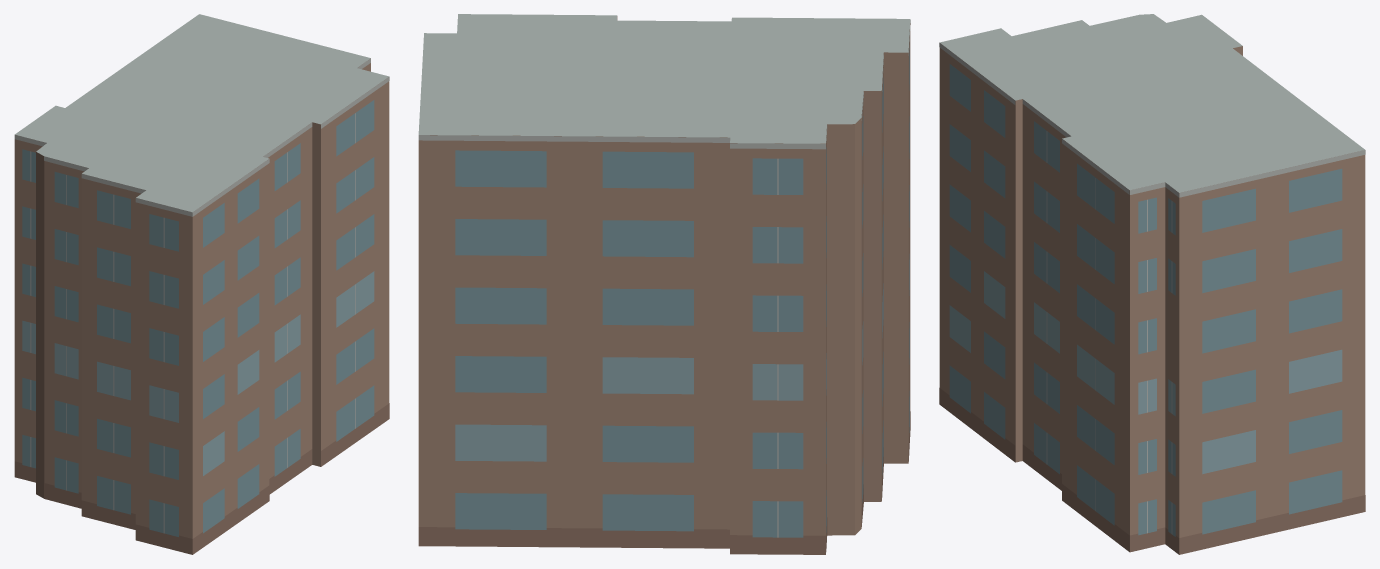
The model's file is survey-upis-32689736.glb.
The picture shows the model from 3 angles, left to right: view 1: azimuth 30°, elevation 25°; view 2: azimuth 150°, elevation 25°; view 3: azimuth 270°, elevation 25°; orthographic projection. The views are drawn at different scales.
Parts seen in each view (by area): view 1: survey-upis-32689736.tmp; view 2: survey-upis-32689736.tmp; view 3: survey-upis-32689736.tmp.
Boxes of the visible parts, left/top/right/bottom form: survey-upis-32689736.tmp: left=14, top=14, right=389, bottom=554; survey-upis-32689736.tmp: left=418, top=14, right=910, bottom=554; survey-upis-32689736.tmp: left=939, top=14, right=1365, bottom=554.
Bounding box in the file's own units: 19.41 × 18.3 × 19.53.
